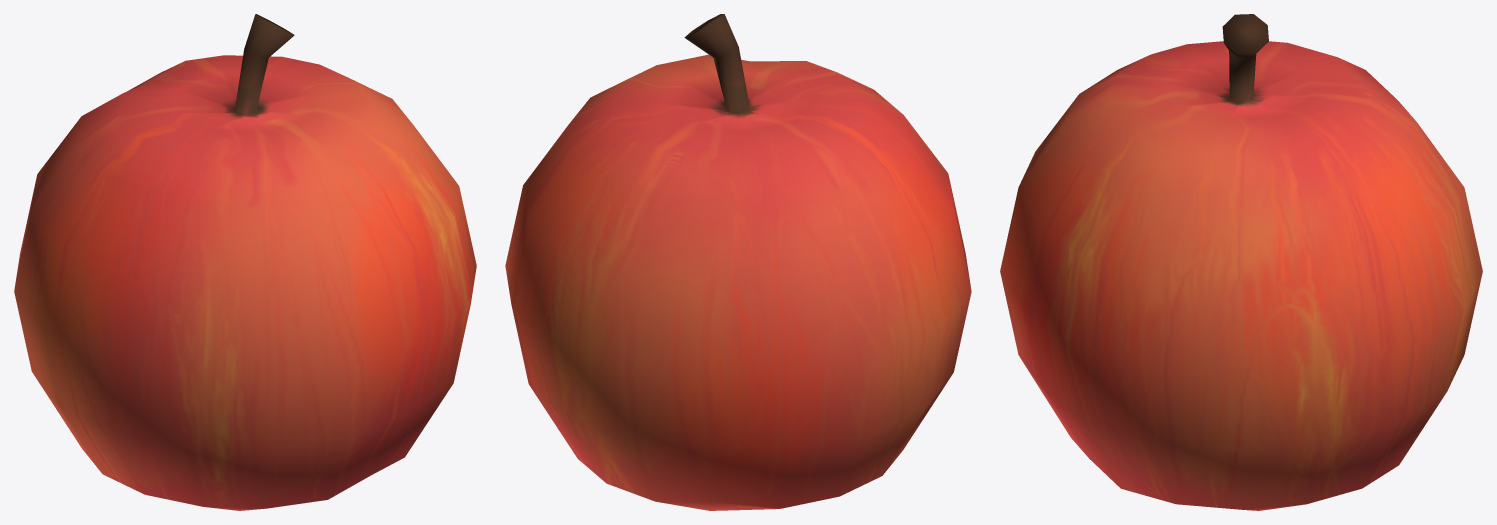
Rendered from SM_Apple.fbx.
3 views of the same model, side by side, from view 1: azimuth 30°, elevation 25°; view 2: azimuth 150°, elevation 25°; view 3: azimuth 270°, elevation 25° (orthographic). The views are drawn at different scales.
Visible parts, largest first — view 1: SM_Apple; view 2: SM_Apple; view 3: SM_Apple.
Boxes of the visible parts, box(x1,y1,x2,y2) form: SM_Apple: box(14, 14, 476, 510); SM_Apple: box(505, 14, 971, 510); SM_Apple: box(1000, 14, 1482, 510).
Bounding box in the file's own units: 20 × 21.61 × 20.
Materials: 1 (1 with a texture image).
